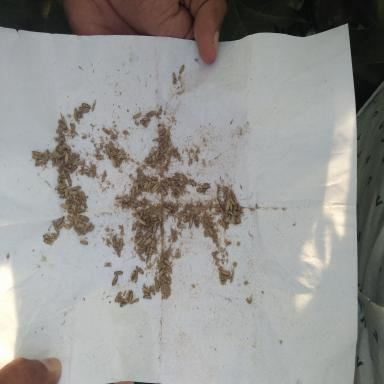pbw: (52, 220, 60, 234), (114, 291, 124, 302), (57, 119, 68, 129), (160, 144, 170, 154), (42, 232, 54, 240), (58, 158, 64, 173), (110, 128, 118, 139), (134, 231, 141, 243), (184, 214, 193, 223), (216, 196, 224, 206), (145, 110, 155, 118), (80, 215, 90, 223), (163, 265, 171, 275), (57, 216, 65, 226), (154, 280, 160, 293), (78, 106, 89, 113), (112, 275, 118, 287), (100, 170, 106, 182), (84, 222, 92, 231), (72, 156, 78, 168), (151, 183, 159, 192), (91, 100, 97, 112), (47, 150, 54, 160), (220, 268, 230, 275), (67, 214, 74, 224), (192, 217, 198, 228), (232, 194, 238, 205), (165, 125, 171, 136), (105, 147, 111, 158), (111, 156, 117, 167), (64, 187, 70, 198), (182, 173, 188, 184), (43, 239, 54, 245), (145, 243, 150, 256), (131, 269, 136, 282), (164, 178, 172, 186), (116, 148, 124, 156), (120, 300, 128, 308), (136, 266, 144, 274), (102, 127, 110, 135), (70, 166, 78, 174), (145, 253, 152, 262), (144, 237, 151, 246), (128, 290, 133, 302), (154, 148, 160, 158), (132, 112, 142, 118), (129, 298, 139, 304), (32, 154, 42, 160), (81, 103, 91, 109), (74, 107, 78, 122), (226, 186, 231, 198), (80, 191, 86, 201), (111, 144, 116, 156), (131, 222, 137, 232), (81, 199, 87, 209), (145, 232, 153, 239), (188, 179, 196, 186), (196, 205, 204, 212), (58, 221, 65, 229), (218, 219, 225, 227), (167, 206, 175, 213), (77, 159, 85, 166), (136, 236, 143, 244), (196, 188, 207, 193), (70, 124, 75, 135), (143, 181, 148, 192), (142, 118, 151, 124), (164, 152, 170, 161), (150, 286, 156, 295), (230, 270, 234, 283), (131, 186, 135, 199), (134, 270, 138, 283), (76, 208, 86, 213), (44, 151, 49, 161), (115, 158, 120, 168), (232, 207, 237, 217), (179, 64, 184, 74), (146, 182, 151, 192), (67, 176, 72, 186), (64, 153, 69, 163), (125, 290, 130, 300), (63, 143, 70, 150), (138, 254, 145, 261), (54, 151, 61, 158), (140, 120, 147, 127), (167, 244, 171, 256), (120, 238, 124, 250), (42, 152, 46, 164), (142, 287, 150, 293), (72, 198, 80, 204), (55, 182, 61, 190), (114, 250, 120, 258), (77, 222, 85, 228), (235, 216, 241, 224), (72, 225, 78, 233), (172, 72, 176, 84), (202, 182, 210, 188), (153, 222, 157, 234), (159, 269, 165, 277), (71, 204, 76, 213), (55, 137, 64, 142), (171, 149, 176, 158), (168, 140, 173, 149), (72, 186, 81, 191), (57, 173, 62, 182), (116, 237, 120, 248), (226, 199, 230, 210), (60, 204, 71, 208), (74, 215, 78, 226), (206, 202, 213, 208), (136, 200, 142, 207), (139, 219, 146, 225), (176, 180, 183, 186), (148, 224, 154, 231), (176, 187, 182, 194), (227, 210, 234, 216), (158, 140, 164, 147), (63, 224, 70, 230), (136, 186, 142, 193), (159, 129, 165, 136), (225, 215, 230, 223), (228, 219, 236, 224), (142, 295, 152, 299), (61, 116, 66, 124), (114, 197, 124, 201), (211, 250, 219, 255), (175, 153, 180, 161), (194, 154, 199, 162), (80, 240, 88, 245), (121, 203, 129, 208), (150, 146, 154, 156), (161, 188, 166, 196), (163, 207, 171, 212), (32, 151, 42, 155), (172, 191, 178, 197), (177, 225, 186, 229), (58, 126, 62, 135), (57, 186, 66, 190), (113, 238, 117, 247), (64, 166, 70, 172), (158, 172, 164, 178), (164, 259, 170, 265), (172, 188, 178, 194), (69, 191, 78, 195), (114, 271, 123, 275), (135, 214, 141, 220), (151, 177, 158, 182), (145, 177, 152, 182), (67, 208, 74, 213), (170, 184, 177, 189), (230, 199, 235, 206), (96, 155, 103, 160), (158, 277, 161, 288), (221, 207, 224, 218), (104, 262, 112, 266), (172, 176, 180, 180), (130, 202, 138, 206), (159, 146, 163, 154), (62, 170, 66, 178), (59, 193, 65, 198), (135, 181, 138, 191), (192, 206, 198, 211), (65, 198, 70, 204), (114, 247, 120, 252), (159, 211, 162, 221), (189, 218, 192, 228), (118, 298, 125, 302), (136, 249, 143, 253), (124, 198, 131, 202), (151, 180, 158, 184), (64, 129, 71, 133), (143, 292, 150, 296), (117, 155, 126, 158), (151, 239, 154, 248), (212, 212, 220, 215), (236, 206, 240, 212), (208, 228, 212, 234), (140, 211, 143, 219), (174, 173, 181, 176), (154, 240, 156, 248), (82, 135, 86, 139), (85, 170, 90, 173)
